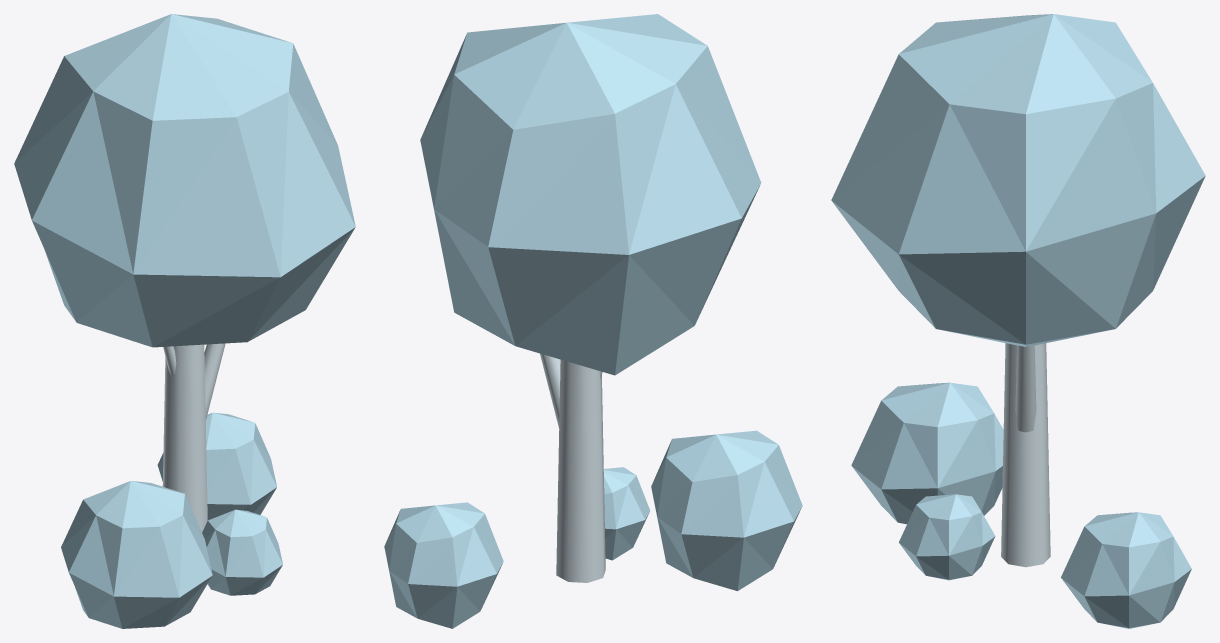
The model's file is sptp_tree_01.FBX.
3 renders of one model, left to right at view 1: azimuth 30°, elevation 25°; view 2: azimuth 150°, elevation 25°; view 3: azimuth 270°, elevation 25°, orthographic. The views are drawn at different scales.
Parts seen in each view (by area): view 1: sptp_tree_01; view 2: sptp_tree_01; view 3: sptp_tree_01.
Boxes of the visible parts, x1,y1,x2,y2 form: sptp_tree_01: (14, 14, 355, 628); sptp_tree_01: (384, 14, 802, 628); sptp_tree_01: (831, 14, 1205, 628).
Bounding box in the file's own units: 3.56 × 6.07 × 3.63.
